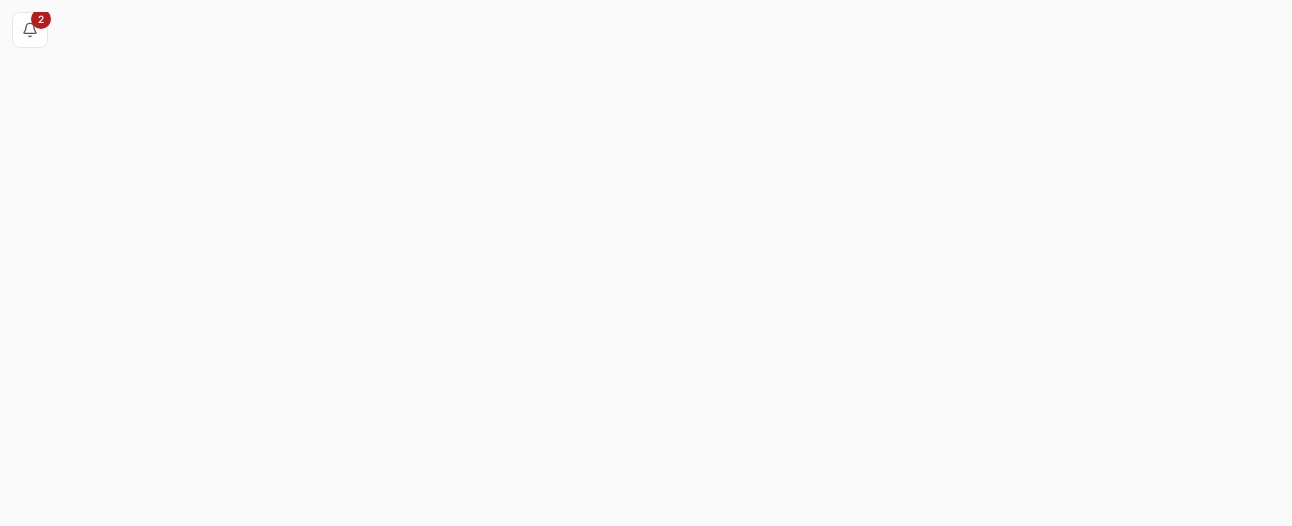
Test: Notifications Component Testing › NotificationBell opens flyout panel on click and displays recent notifications
Click the button named "open notifications" at (30, 30), box [12,12,48,48]
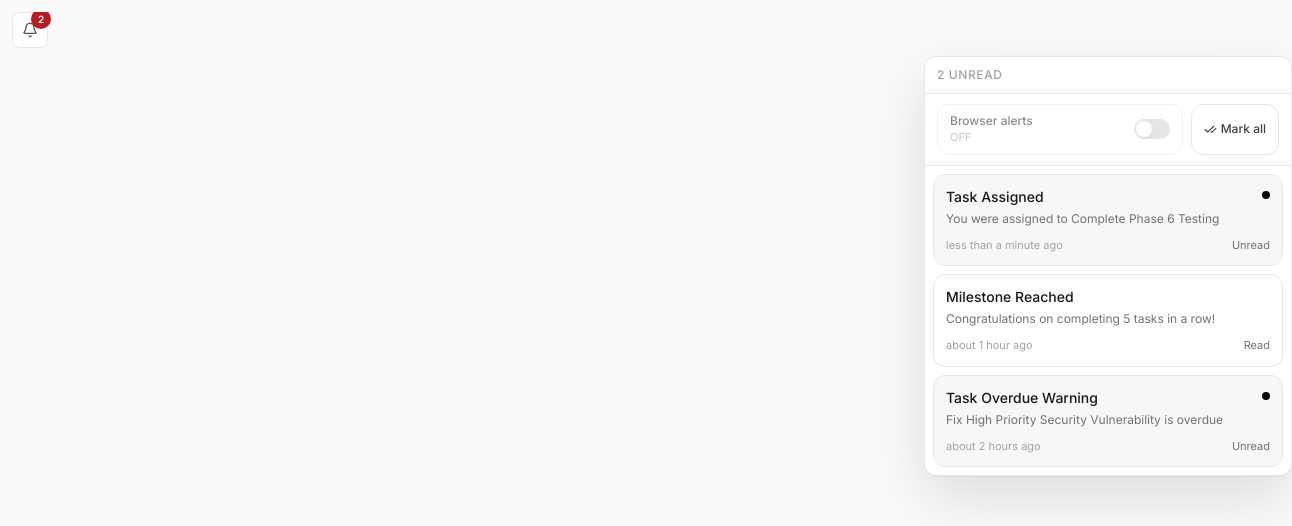
Check: the text "2 unread" is shown, box [937,67,1002,83]
Check: the text "Task Assigned" is shown, box [946,188,1044,204]
